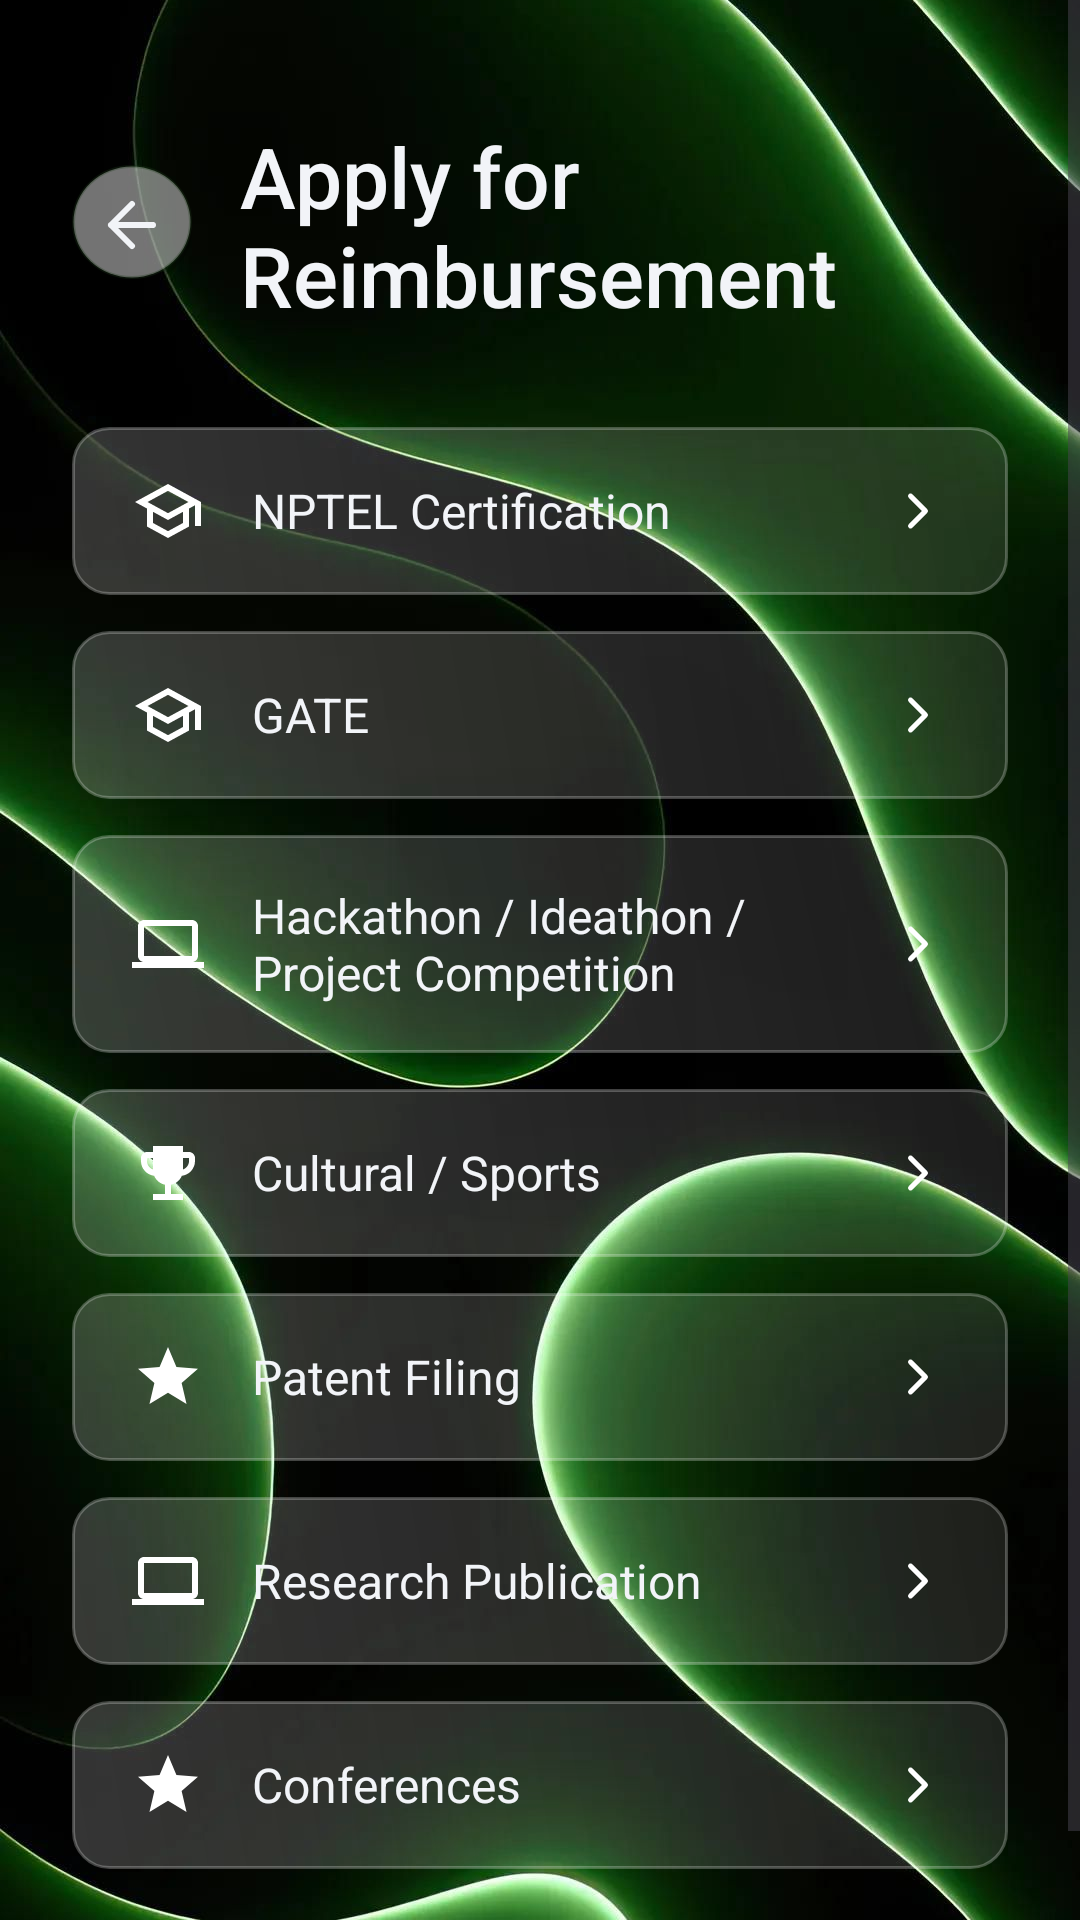

Icons on this 1080*1920 Android screen, each with the point to tap as point (x, y):
Back: point (132, 225)
laptop: point (168, 944), point (168, 1581)
school: point (169, 506), point (168, 715)
star: point (168, 1375), point (168, 1783)
